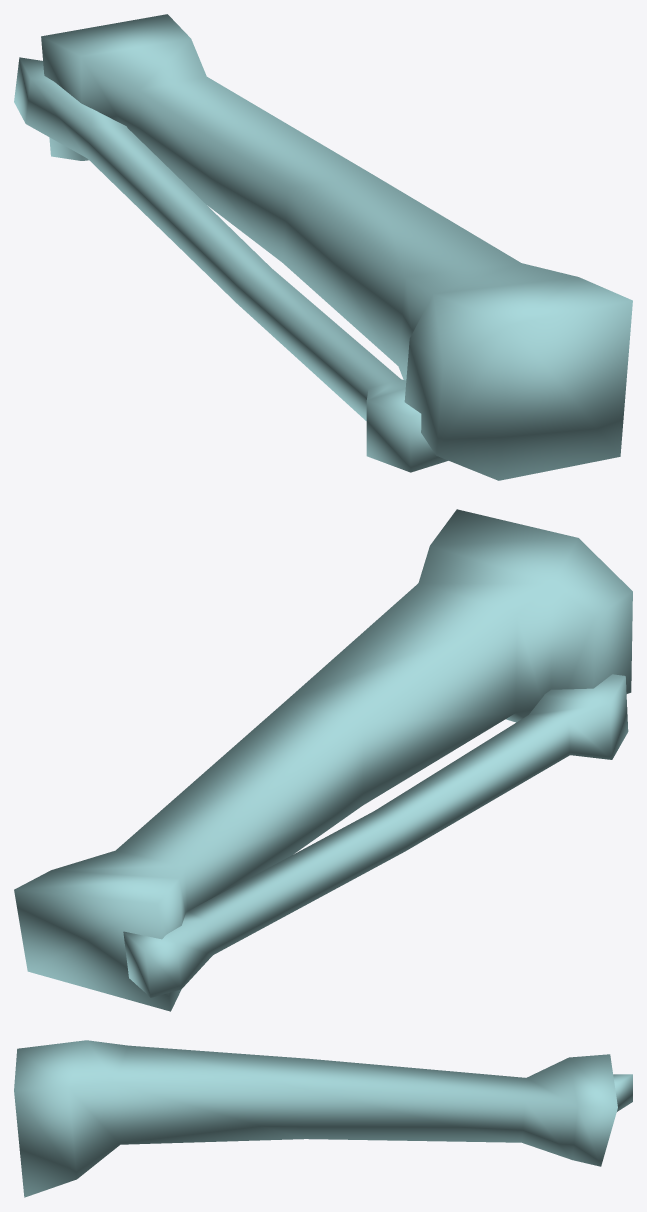
File: skelly_calf.R.fbx
3 views of the same model, one above another, from view 1: azimuth 30°, elevation 25°; view 2: azimuth 150°, elevation 25°; view 3: azimuth 270°, elevation 25° (orthographic). The views are drawn at different scales.
Visible parts, largest first — view 1: skelly_calf.R; view 2: skelly_calf.R; view 3: skelly_calf.R.
Part boxes in pixels (x1,y1,x2,y2): skelly_calf.R: (14, 14, 632, 480); skelly_calf.R: (14, 509, 632, 1011); skelly_calf.R: (14, 1040, 632, 1197).
Bounding box in the file's own units: 10.86 × 8.19 × 41.34.
